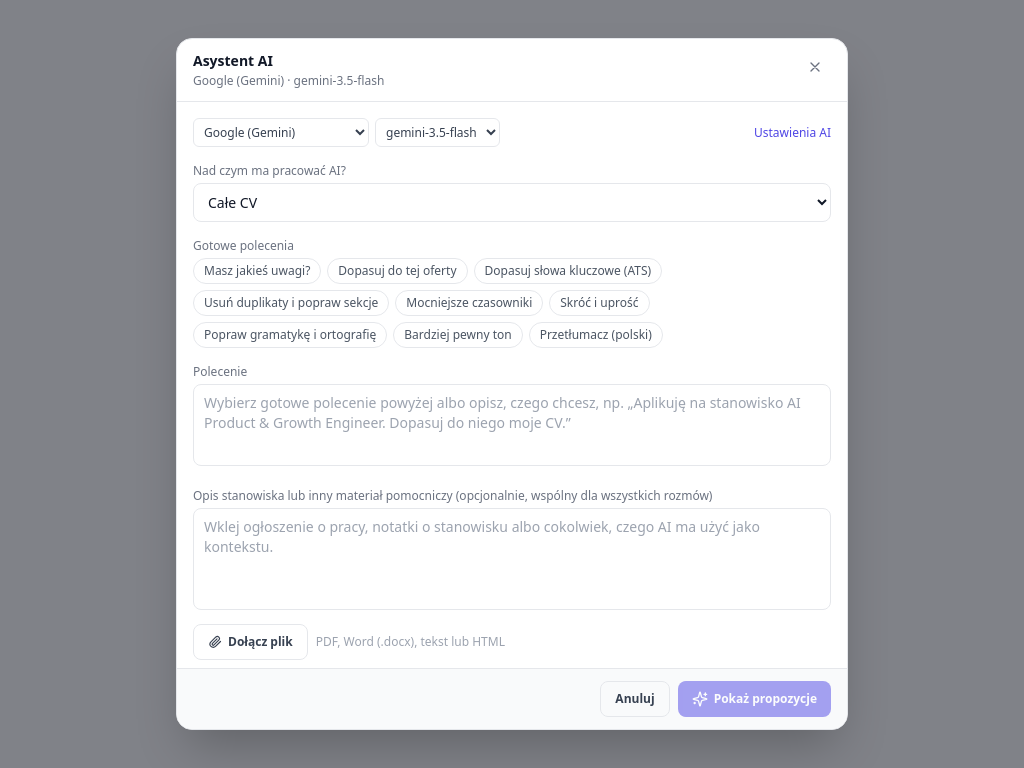
Test: a conversation in Polish › shows what to do about a busy provider, in Polish, once all five retries are used
Replace the text in the text box labelled "Polecenie" with "Popraw mój opis" at (512, 425), box [193, 384, 831, 466]
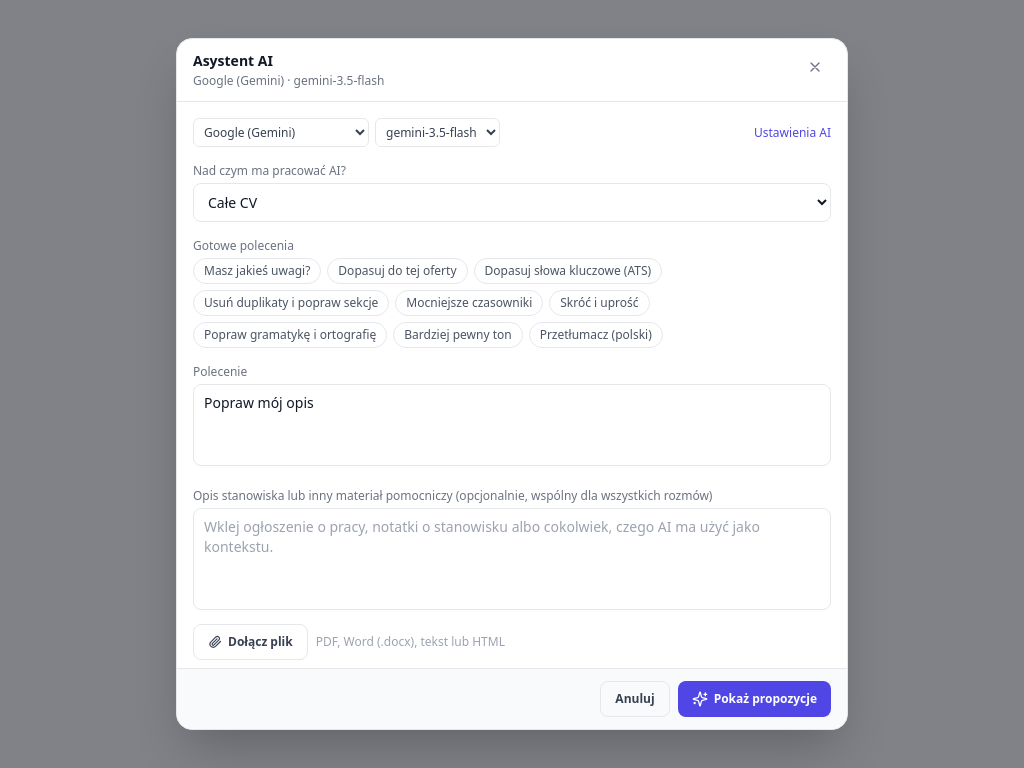
Click the button "Pokaż propozycje" at (754, 699), box [678, 681, 831, 717]
(page scrolled)
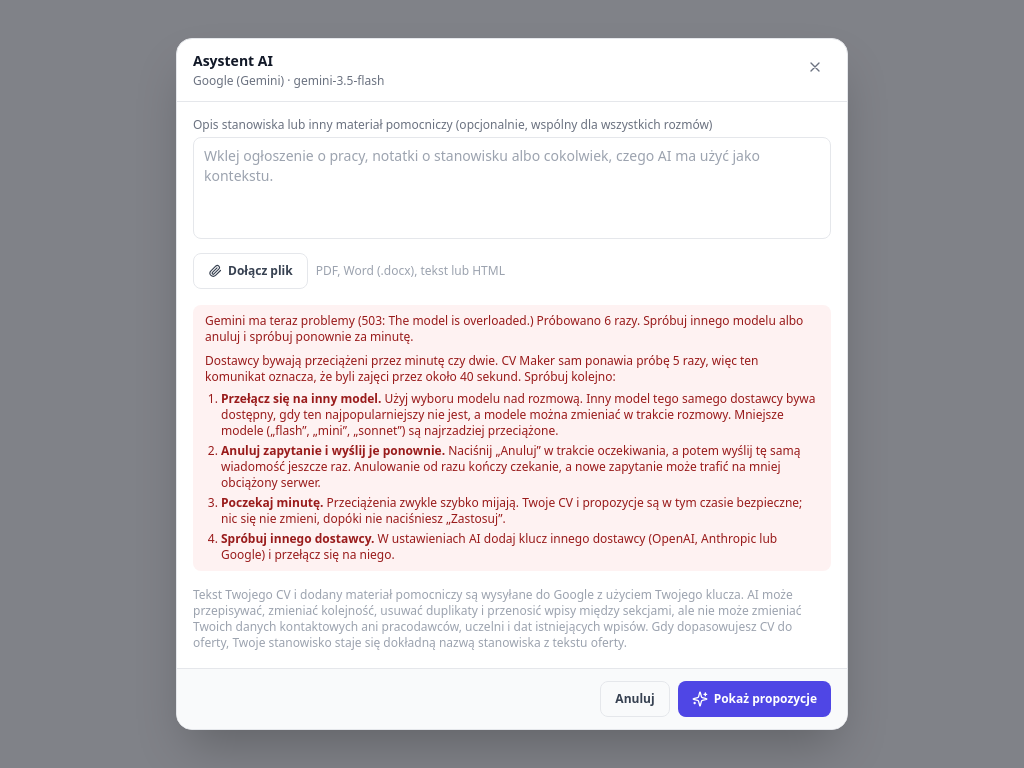
Result: the message shows "Gemini ma teraz problemy (503: The model is overloaded.)" at [205, 312, 803, 345]
Result: the message shows "Próbowano 6 razy" at [205, 312, 803, 345]
Result: the element with test id "busy-advice" shows "Przełącz się na inny model" at [221, 390, 378, 407]
